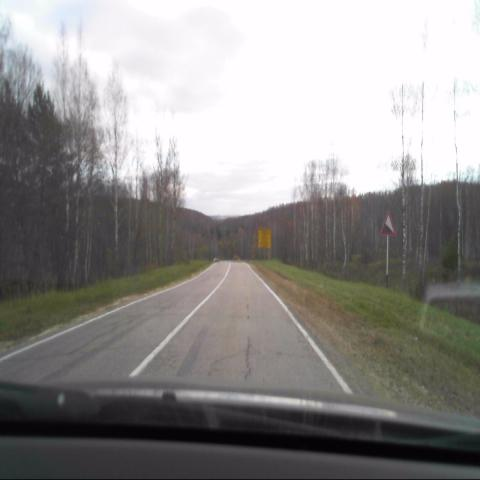1_13: (381, 213, 395, 236)
